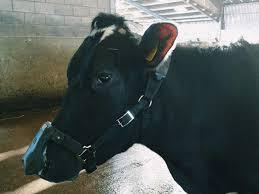cow: (20, 12, 259, 194)
